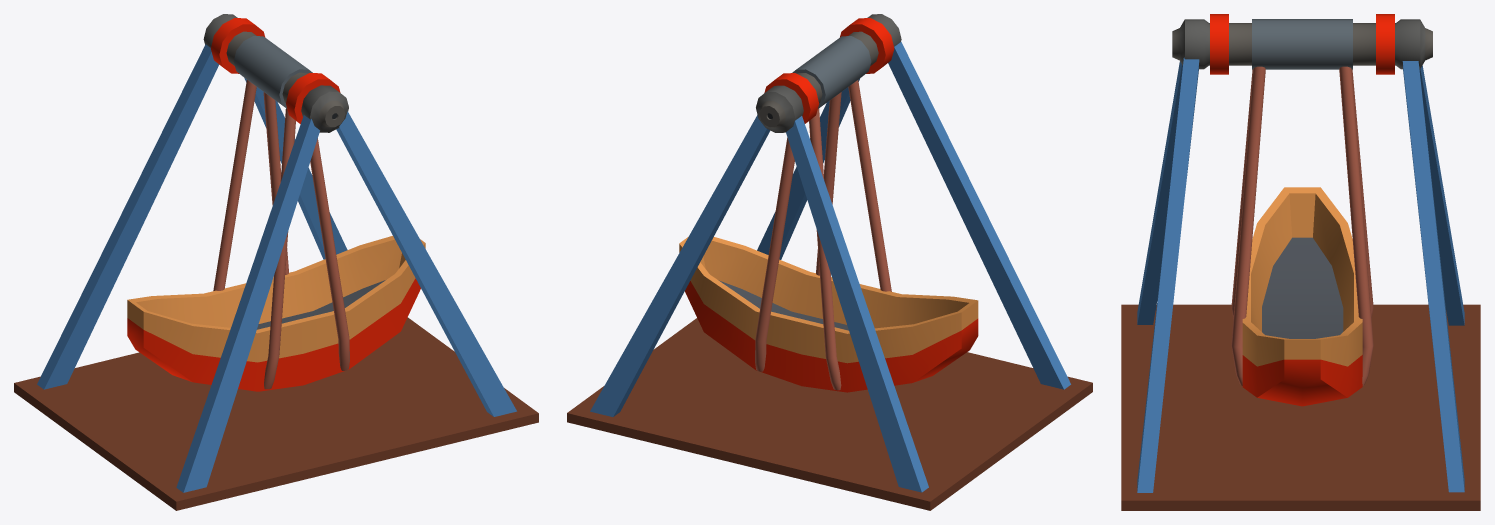
File: Attraction_5.fbx
3 views of the same model, side by side, from view 1: azimuth 30°, elevation 25°; view 2: azimuth 150°, elevation 25°; view 3: azimuth 270°, elevation 25° (orthographic). The views are drawn at different scales.
Parts seen in each view (by area): view 1: Attraction_5; view 2: Attraction_5; view 3: Attraction_5.
Part boxes in pixels (<box>): Attraction_5: <box>14,14,538,510</box>; Attraction_5: <box>567,14,1092,510</box>; Attraction_5: <box>1121,14,1480,510</box>.
Size of the model in its own units: 650 by 613 by 504.
